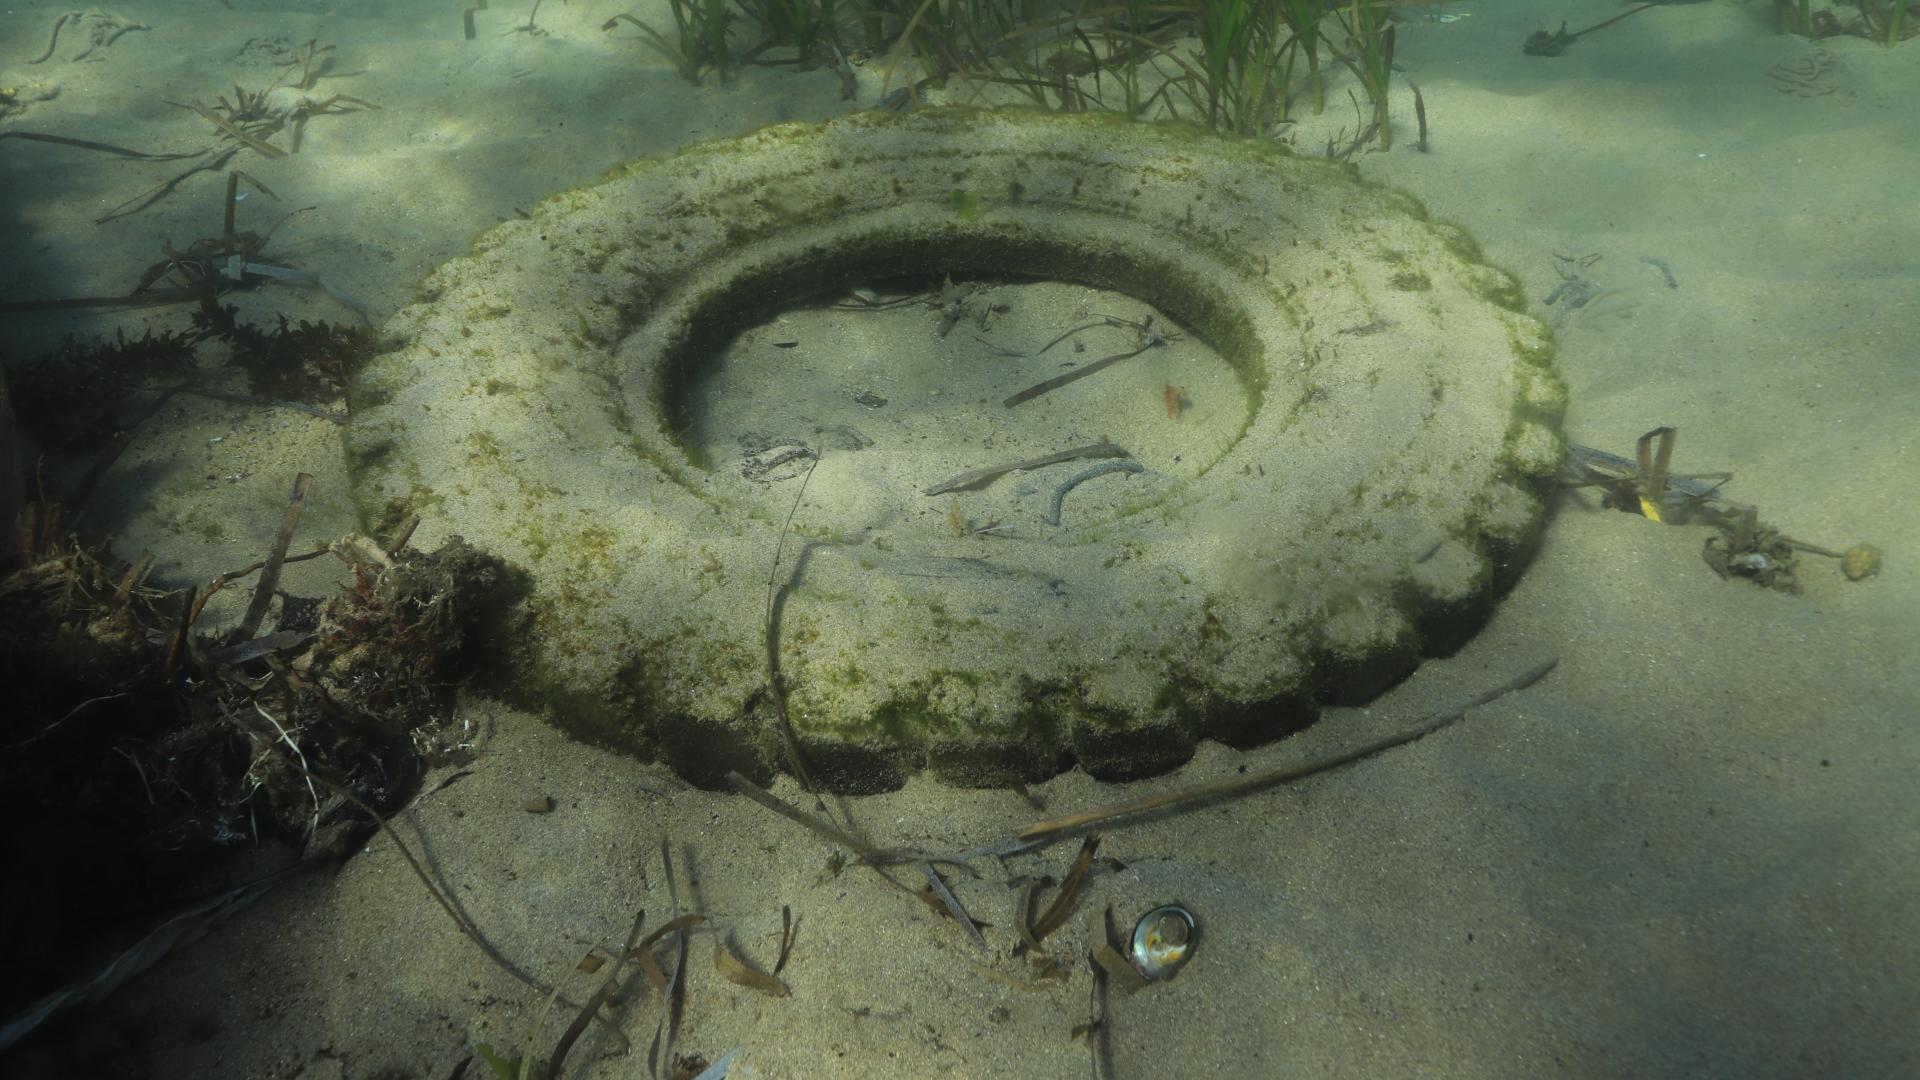tire: (342, 102, 1569, 787)
